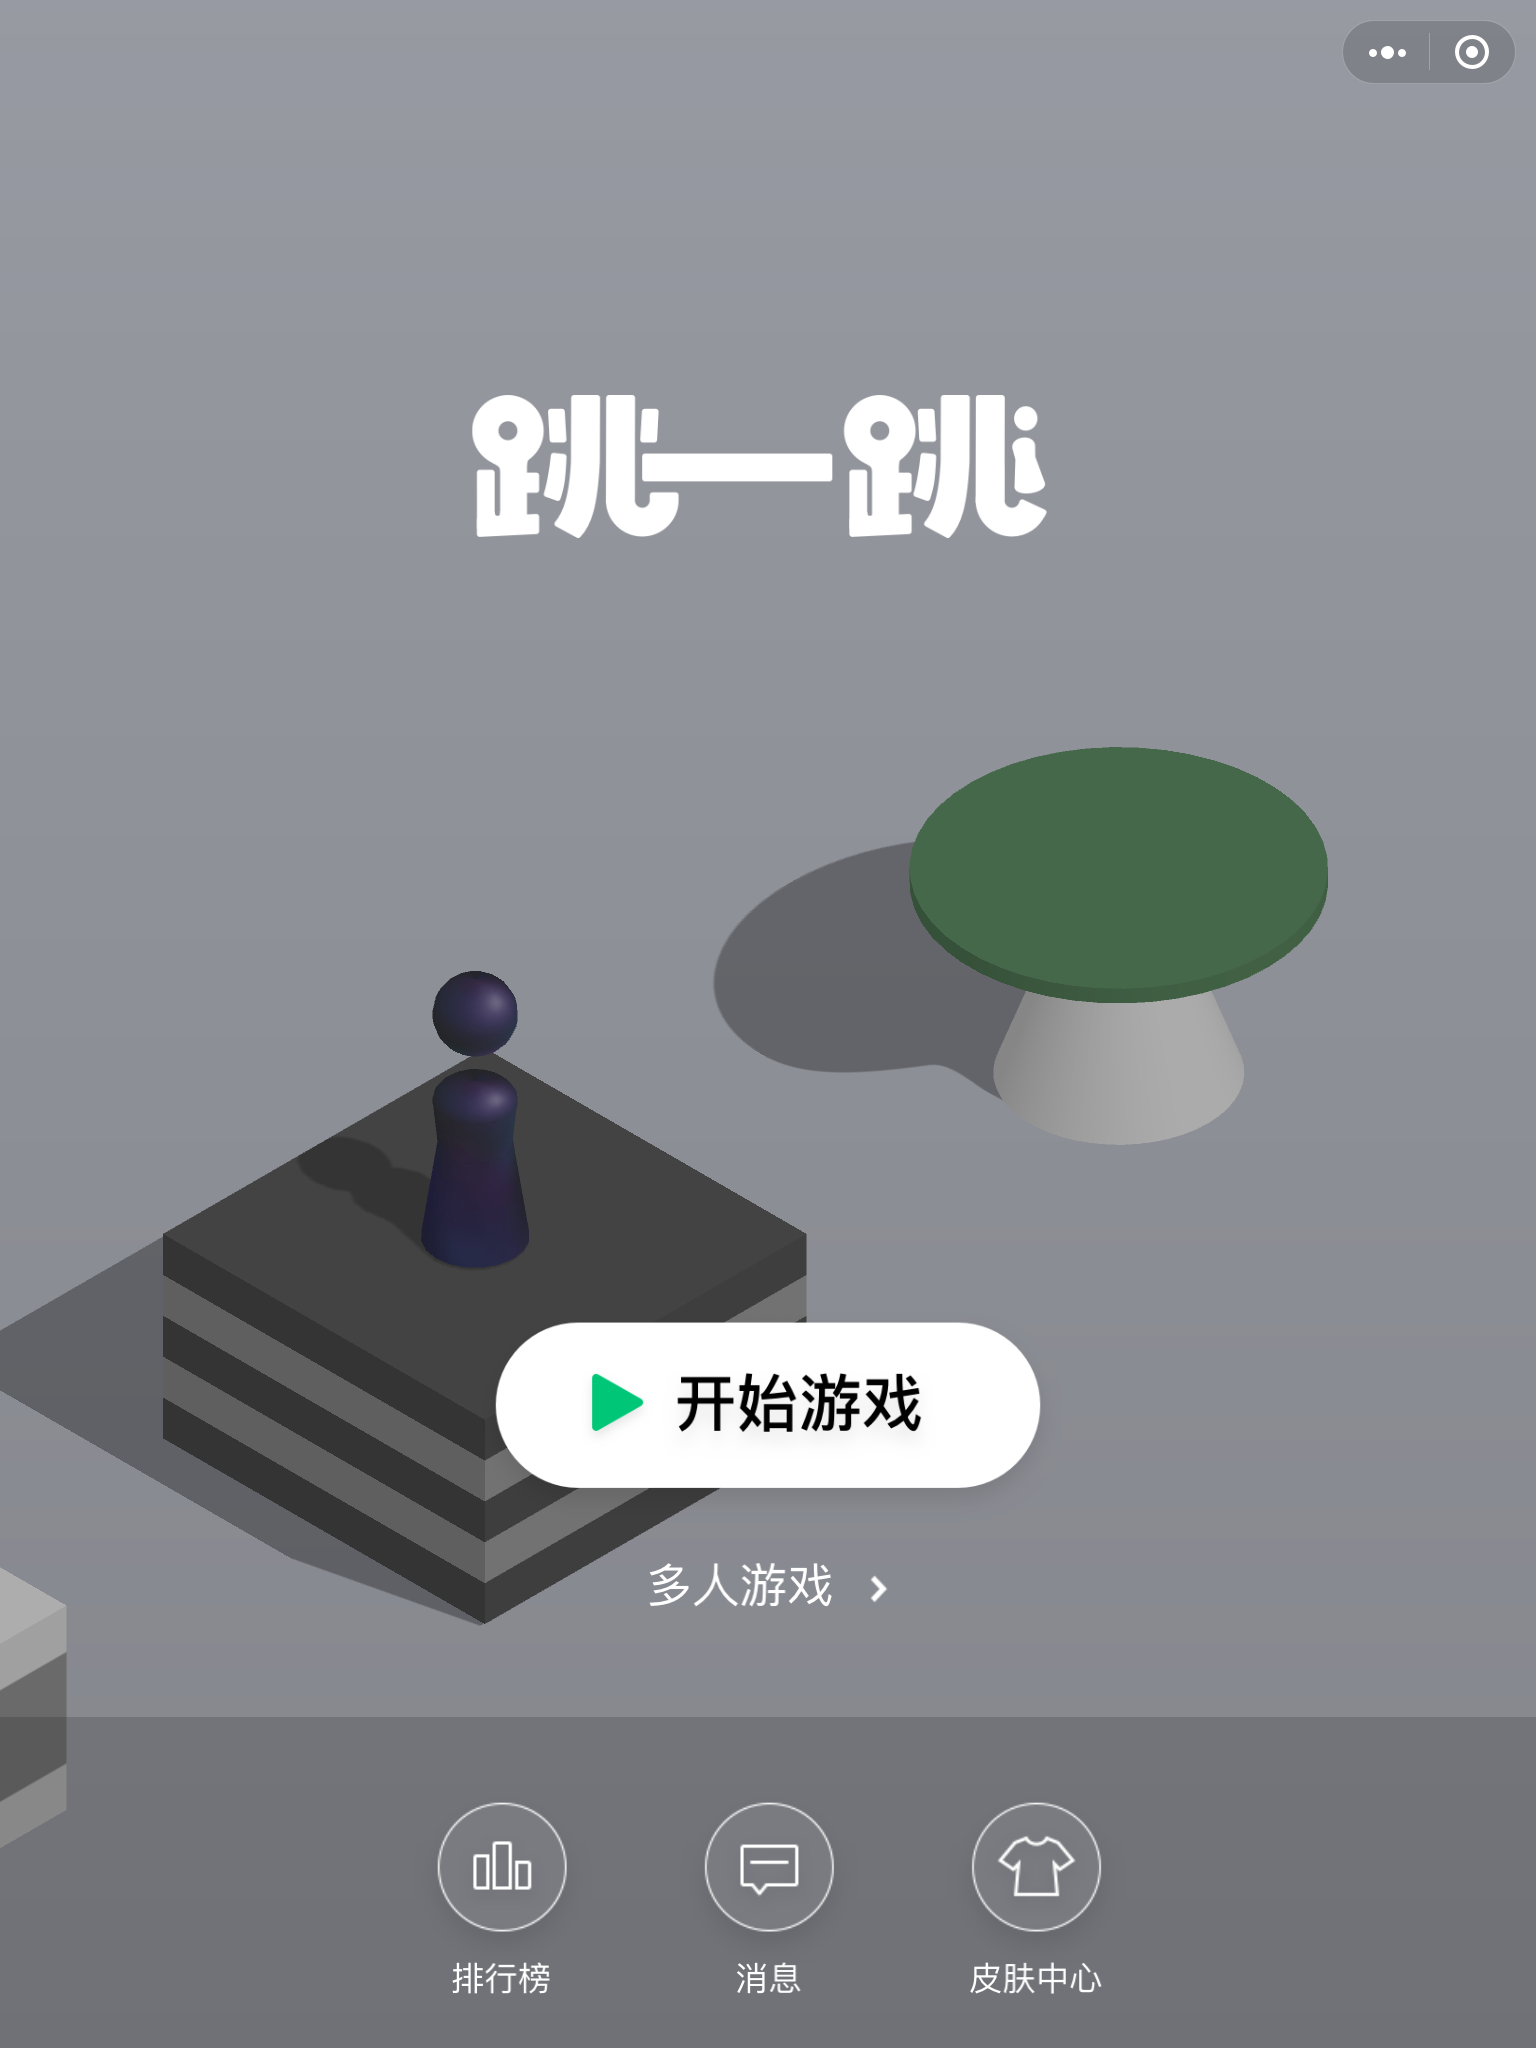c: (908, 740, 1334, 1151)
f: (163, 1050, 812, 1630)
r: (416, 964, 532, 1284)
s: (494, 1311, 1050, 1498)
